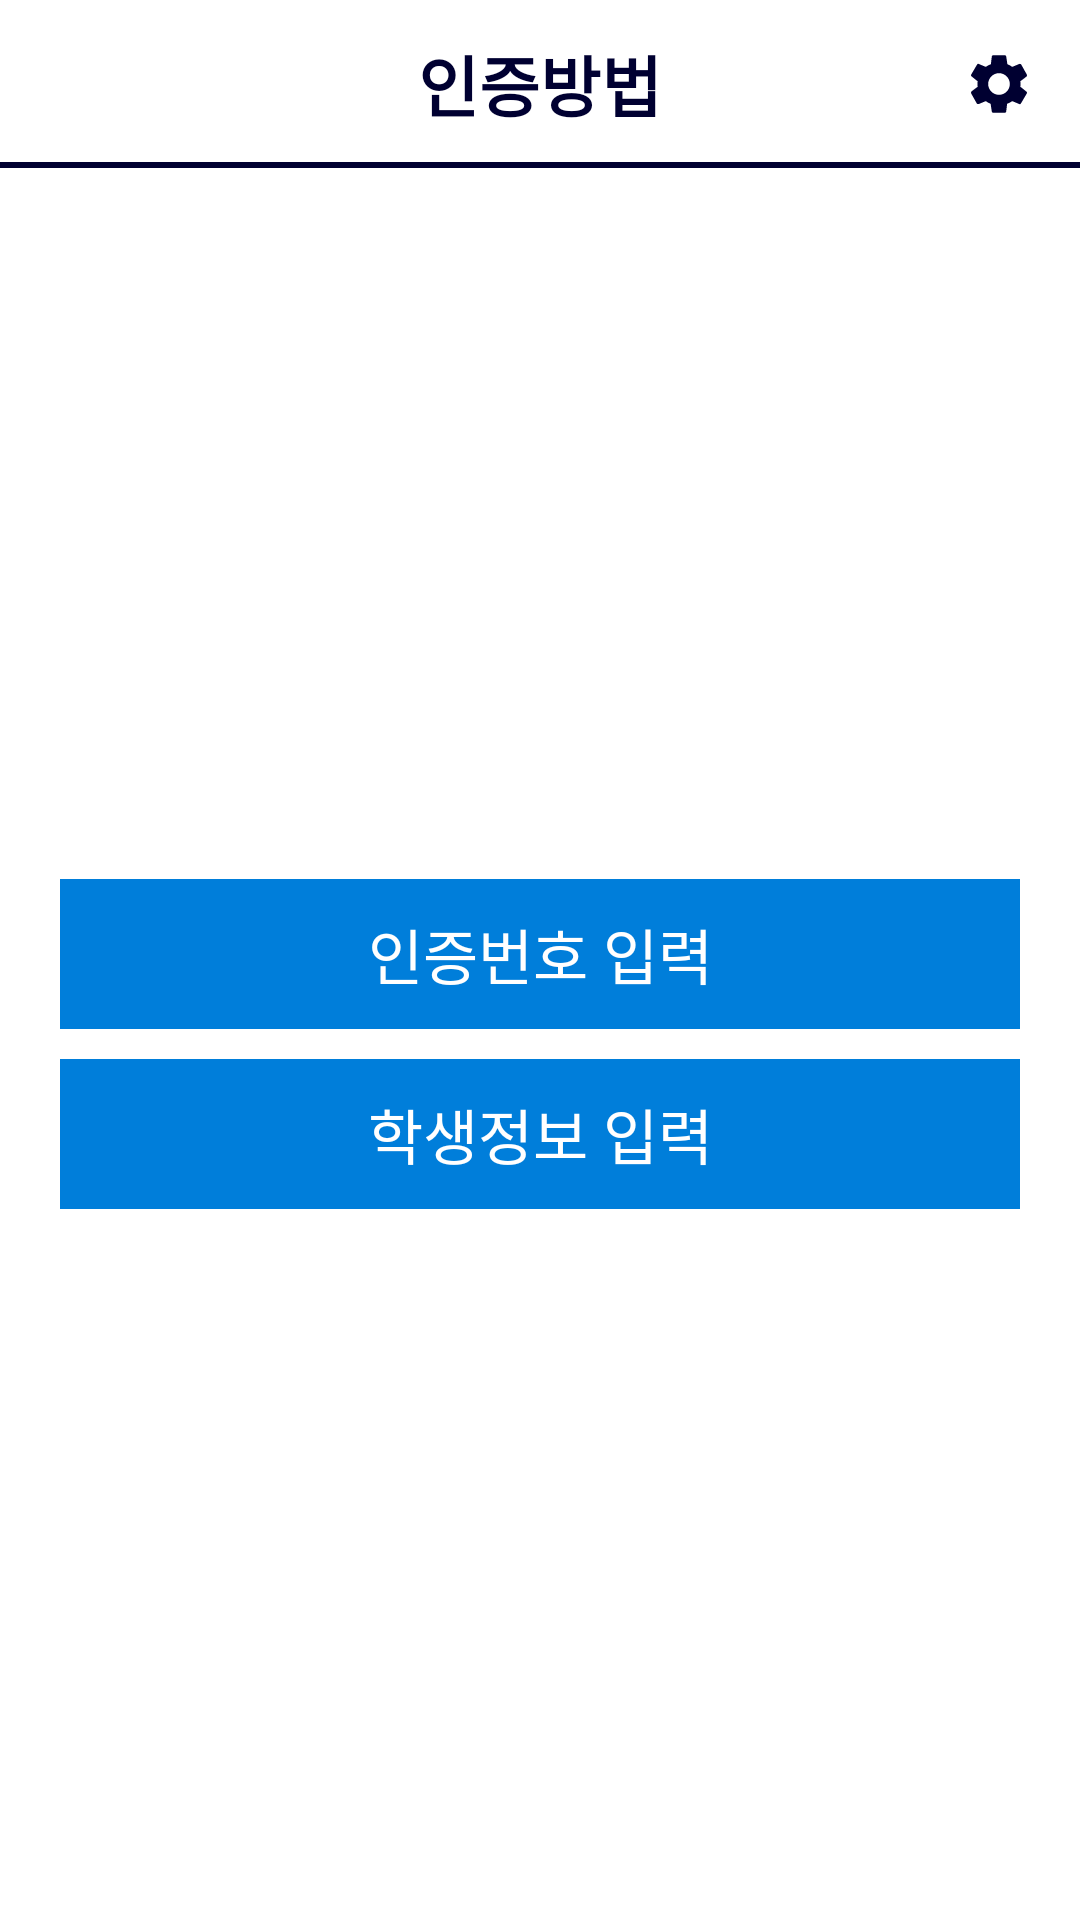

Icons on this 1080 x 1920 Android screen, each with the point to tap as point (x, y):
settings: point (999, 84)
